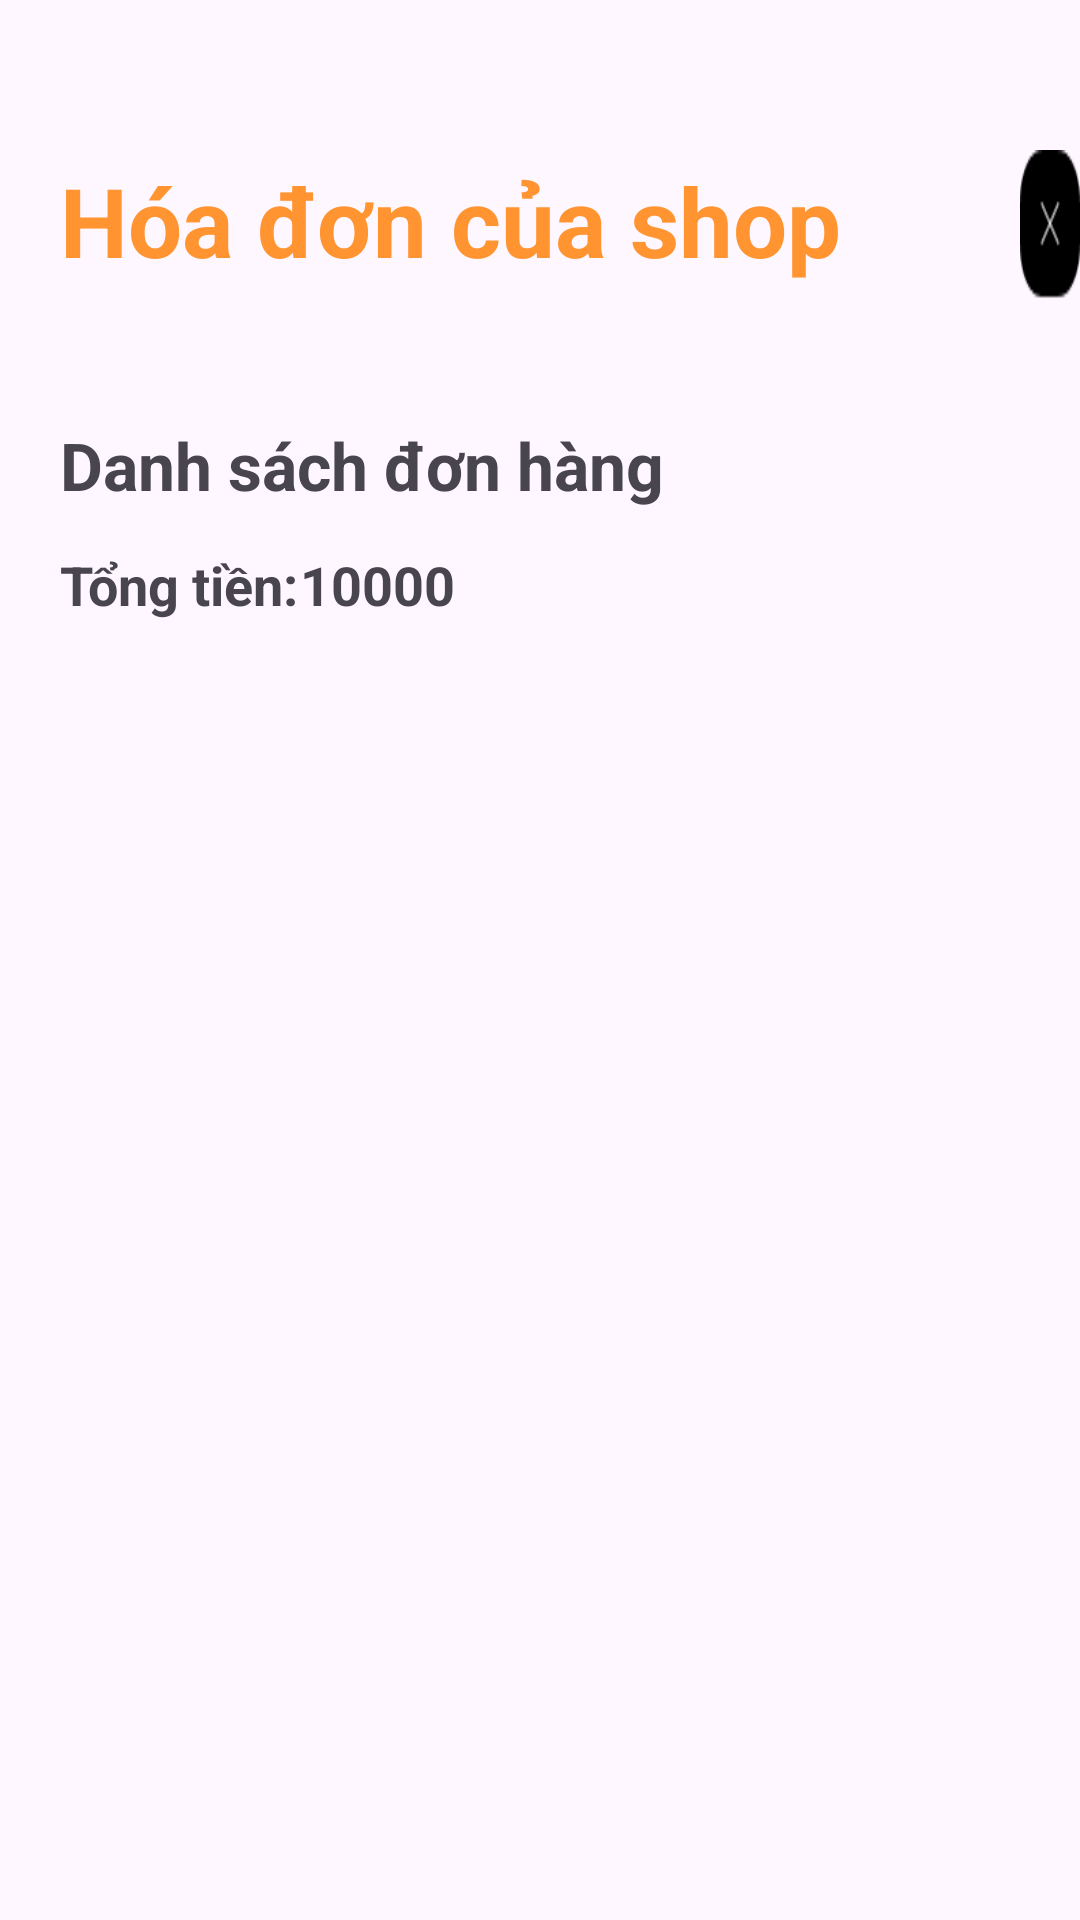

Screen size 1080w x 1920h. Icon name, then its box in pixels as bbox(x1, y1, x2, y2):
close: bbox(1020, 150, 1080, 298)
